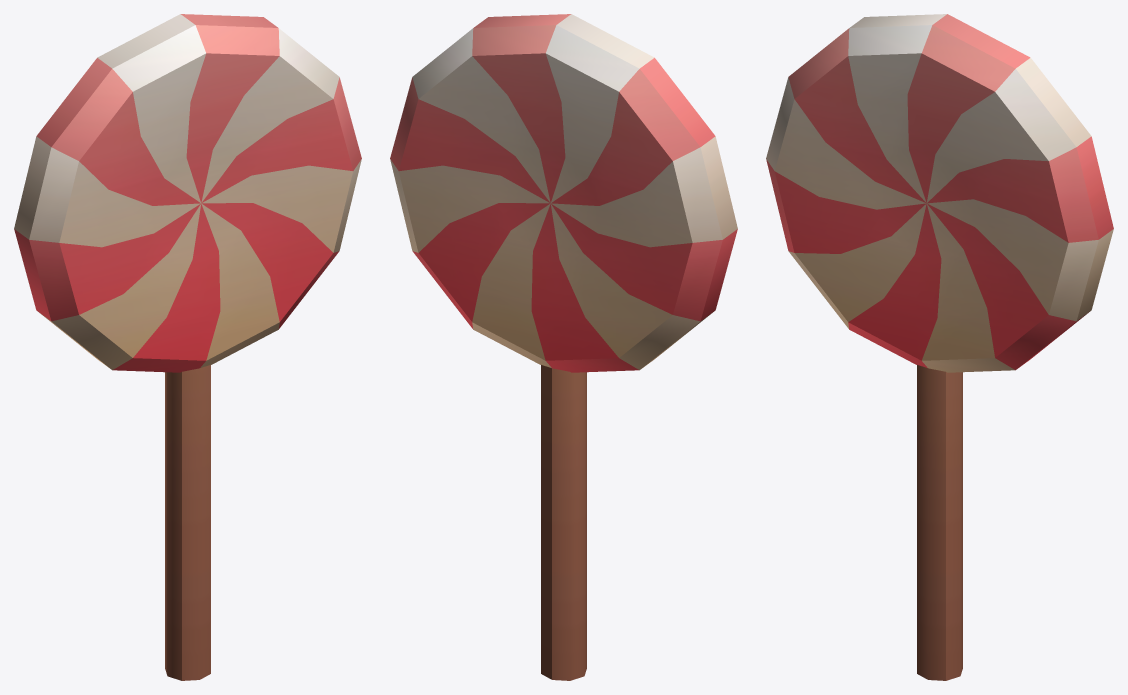
The model's file is lollipop_pink.glb.
3 renders of one model, left to right at view 1: azimuth 30°, elevation 25°; view 2: azimuth 150°, elevation 25°; view 3: azimuth 330°, elevation 25°, orthographic.
Parts seen in each view (by area): view 1: lollipop_pink; view 2: lollipop_pink; view 3: lollipop_pink.
Boxes of the visible parts, x1=… form: lollipop_pink: x1=14, y1=14, x2=361, y2=680; lollipop_pink: x1=390, y1=14, x2=737, y2=680; lollipop_pink: x1=766, y1=14, x2=1113, y2=680.
Bounding box in the file's own units: 0.65 × 1.23 × 0.1239.
Materials: 1 (1 with a texture image).
